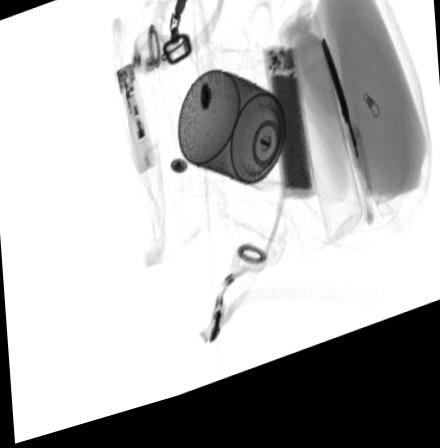Lighter: (113, 68, 159, 181)
Powerbank: (265, 61, 317, 216)
Scissors: (320, 54, 375, 214)
Sprayer: (176, 80, 289, 202)
